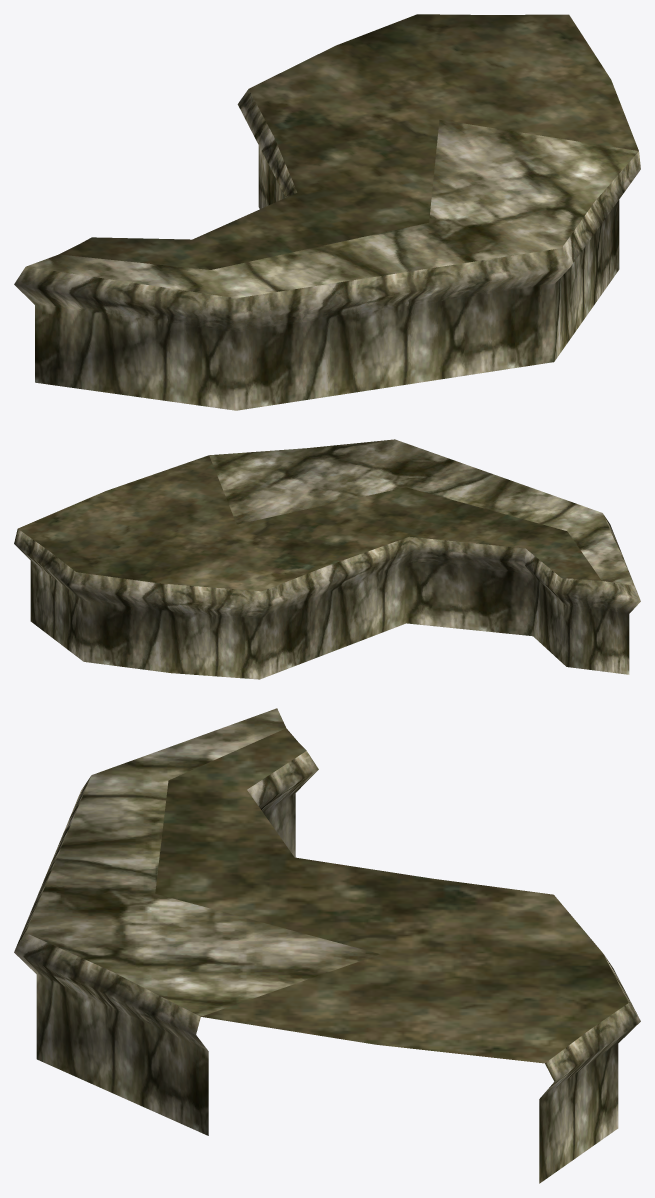
Rendered from CB_NEWPLAYSURFACE_CB_PLAYSURFACE106.fbx.
3 views of the same model, one above another, from view 1: azimuth 30°, elevation 25°; view 2: azimuth 150°, elevation 25°; view 3: azimuth 270°, elevation 25° (orthographic). The views are drawn at different scales.
Parts seen in each view (by area): view 1: CB_NEWPLAYSURFACE_CB_PLAYSURFACE106; view 2: CB_NEWPLAYSURFACE_CB_PLAYSURFACE106; view 3: CB_NEWPLAYSURFACE_CB_PLAYSURFACE106.
Boxes of the visible parts, bbox=[...] form: CB_NEWPLAYSURFACE_CB_PLAYSURFACE106: bbox=[14, 14, 640, 410]; CB_NEWPLAYSURFACE_CB_PLAYSURFACE106: bbox=[14, 439, 640, 679]; CB_NEWPLAYSURFACE_CB_PLAYSURFACE106: bbox=[14, 708, 640, 1183].
Size of the model in its own units: 139482 by 23050 by 102439.
Materials: 3 (3 with a texture image).
